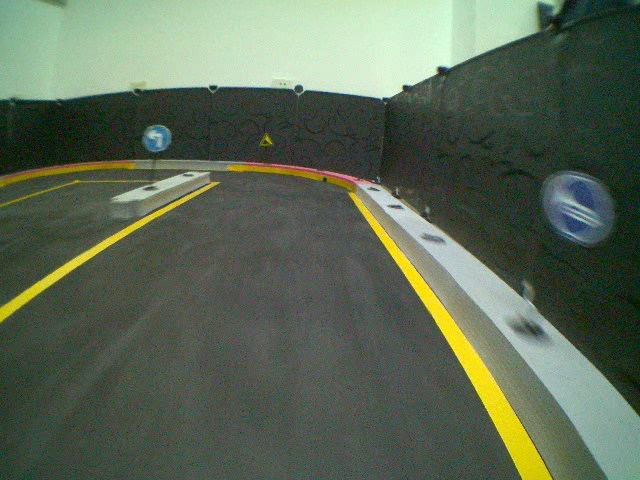fast: (257, 133, 275, 147)
horn: (538, 168, 617, 245)
turn: (141, 124, 173, 152)
